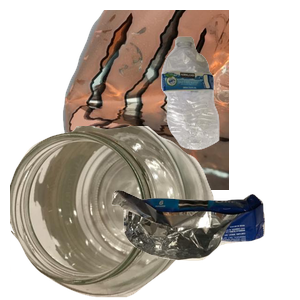glass: (10, 126, 216, 300)
metal: (60, 10, 300, 190)
plastic: (159, 34, 300, 176)
trash: (109, 187, 300, 300)
